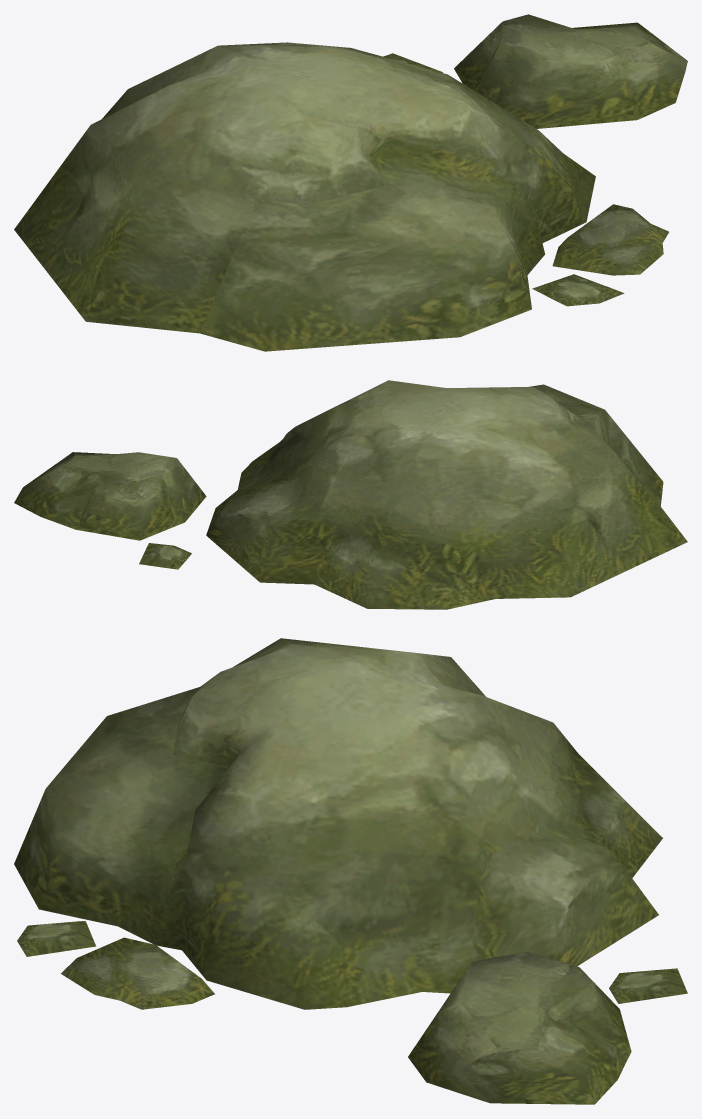
The model's file is Stone_2.FBX.
3 views of the same model, one above another, from view 1: azimuth 30°, elevation 25°; view 2: azimuth 150°, elevation 25°; view 3: azimuth 270°, elevation 25° (orthographic). The views are drawn at different scales.
Visible parts, largest first — view 1: C5_Stone_2; view 2: C5_Stone_2; view 3: C5_Stone_2.
Boxes of the visible parts, x1,y1,x2,y2 form: C5_Stone_2: (14,14,687,351); C5_Stone_2: (14,380,687,609); C5_Stone_2: (14,638,687,1104).
Bounding box in the file's own units: 117 × 25.23 × 87.44.
